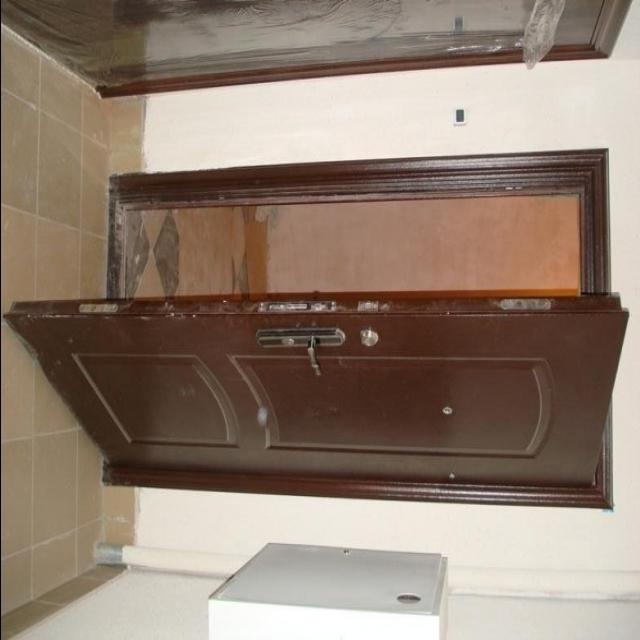open: (60, 147, 607, 496)
